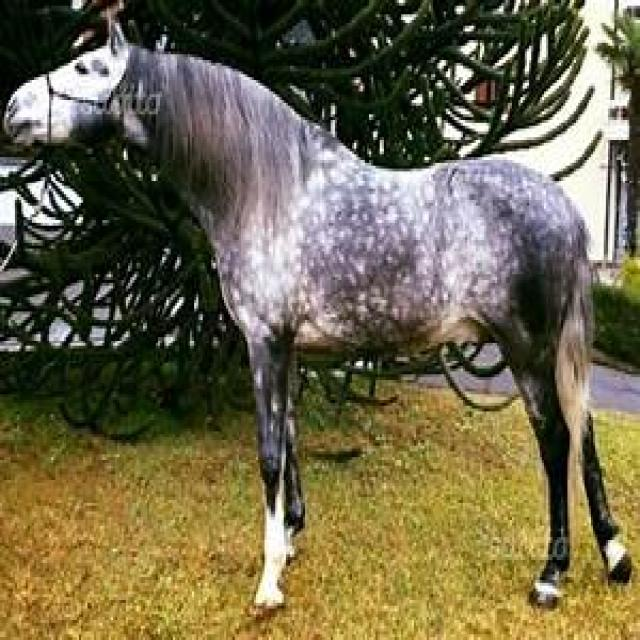horse: (0, 0, 634, 617)
